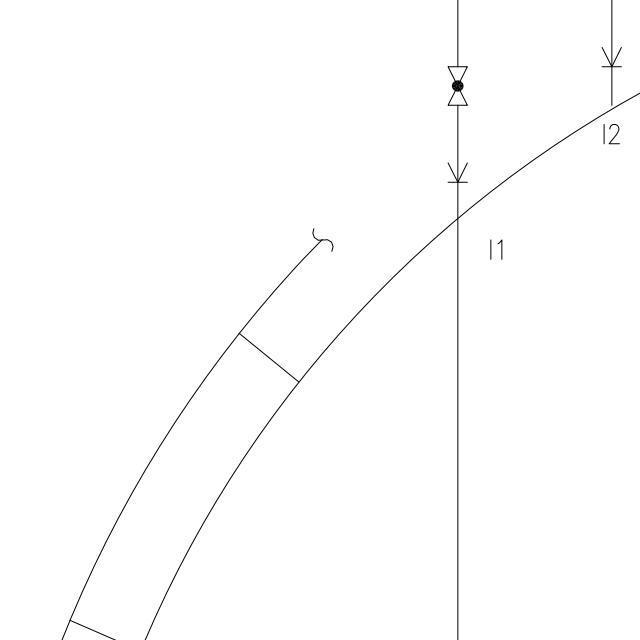BV2: (445, 59, 472, 111)
